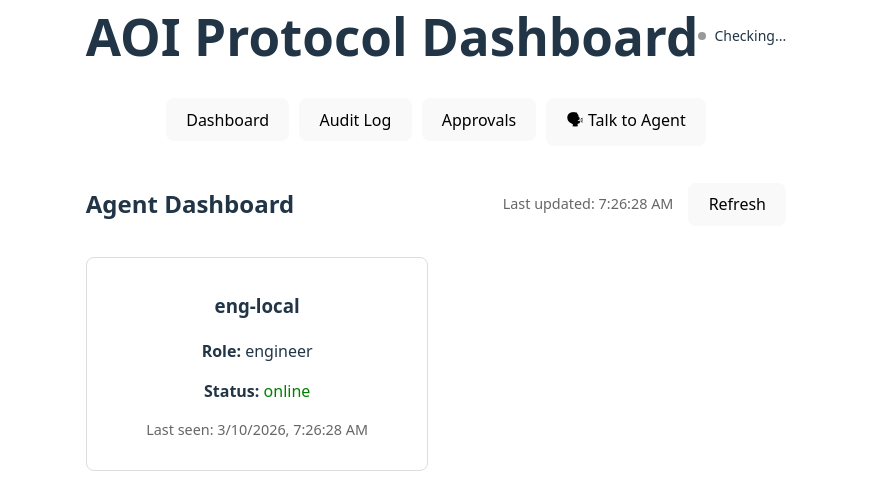
App Component › Mock Data › has mock audit entry to eng-suzuki
Step 1. Click the button "Audit Log" → (355, 120), box [299,98,412,141]
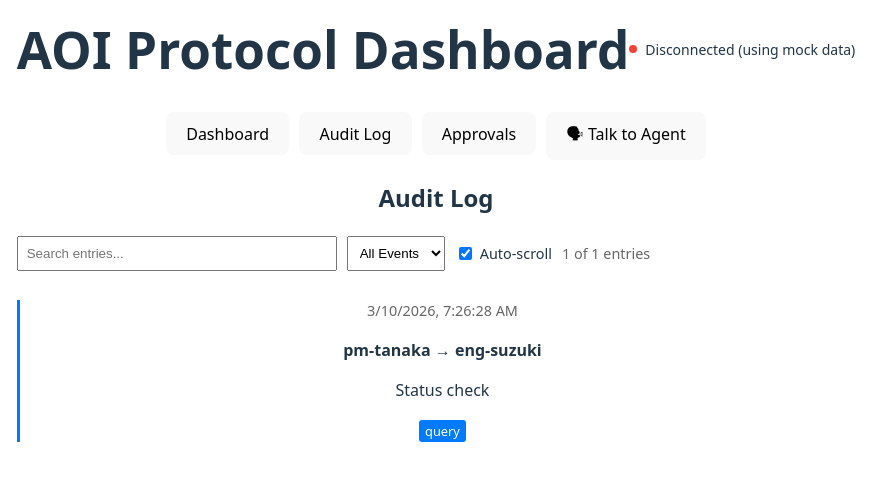
Result: the text "eng-suzuki" is shown at [455,339,542,361]
